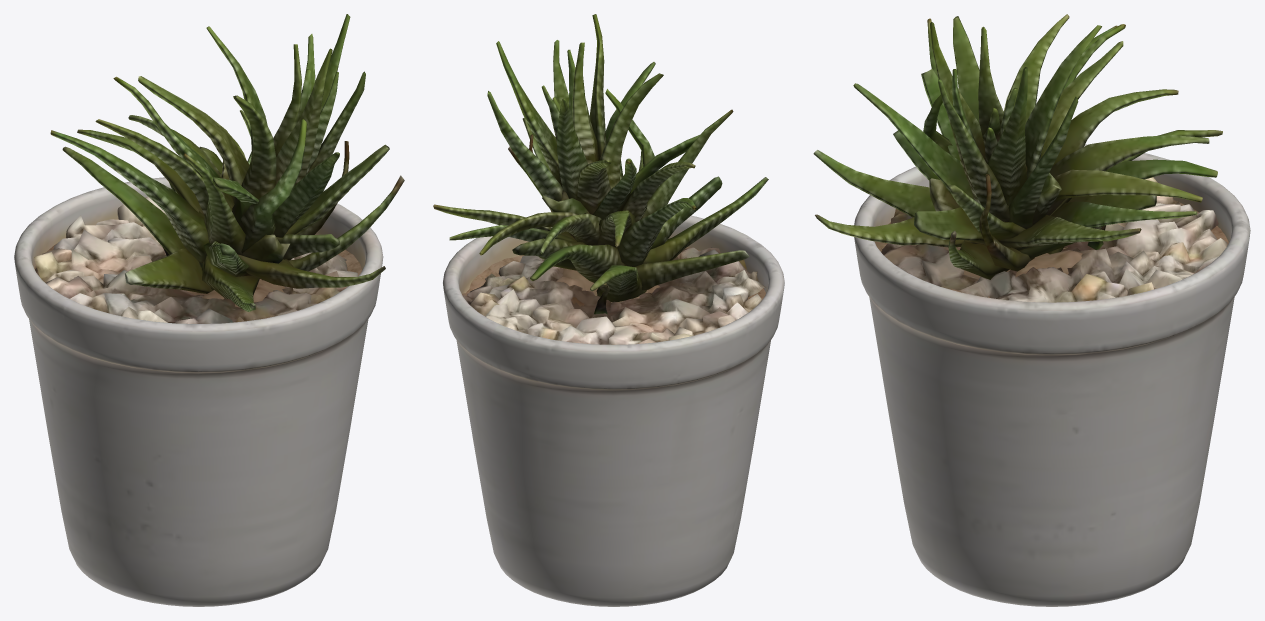
Rendered from potted_plant_04.glb.
The picture shows the model from 3 angles, left to right: view 1: azimuth 30°, elevation 25°; view 2: azimuth 150°, elevation 25°; view 3: azimuth 270°, elevation 25°; orthographic projection. The views are drawn at different scales.
Parts seen in each view (by area): view 1: potted_plant_04_ground; view 2: potted_plant_04_ground; view 3: potted_plant_04_ground.
Boxes of the visible parts, x1,y1,x2,y2 form: potted_plant_04_ground: [14, 14, 404, 606]; potted_plant_04_ground: [433, 14, 784, 606]; potted_plant_04_ground: [813, 14, 1250, 606].
Size of the model in its own units: 0.1679 by 0.2675 by 0.1848.
1 material, 1 textured.
